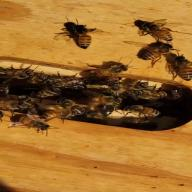Bee: (57, 20, 97, 51), (32, 78, 78, 104), (76, 62, 133, 82), (8, 112, 56, 134), (131, 42, 177, 64), (132, 18, 176, 40), (126, 103, 168, 118), (164, 54, 192, 76)
